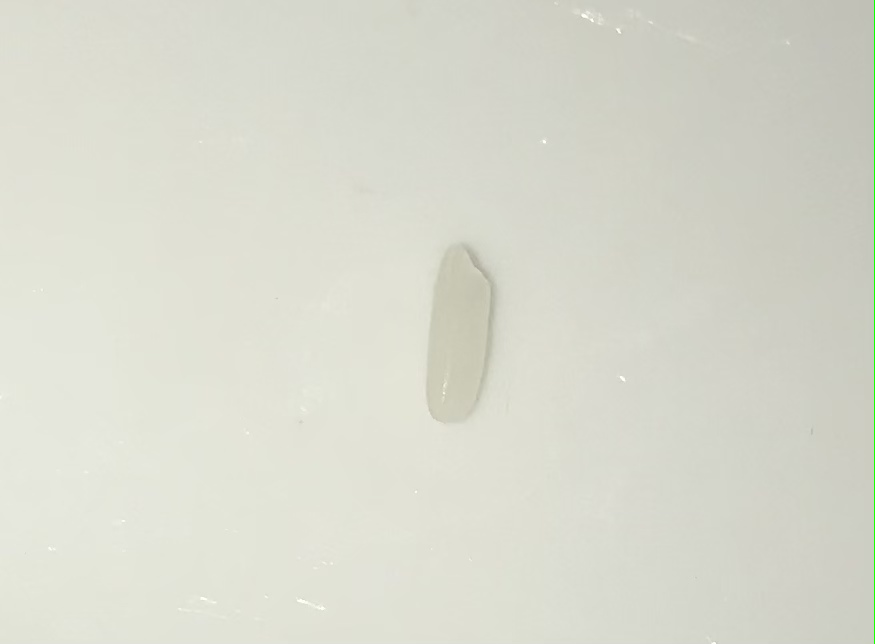Gao Thom Go Cong: (409, 239, 517, 439)
